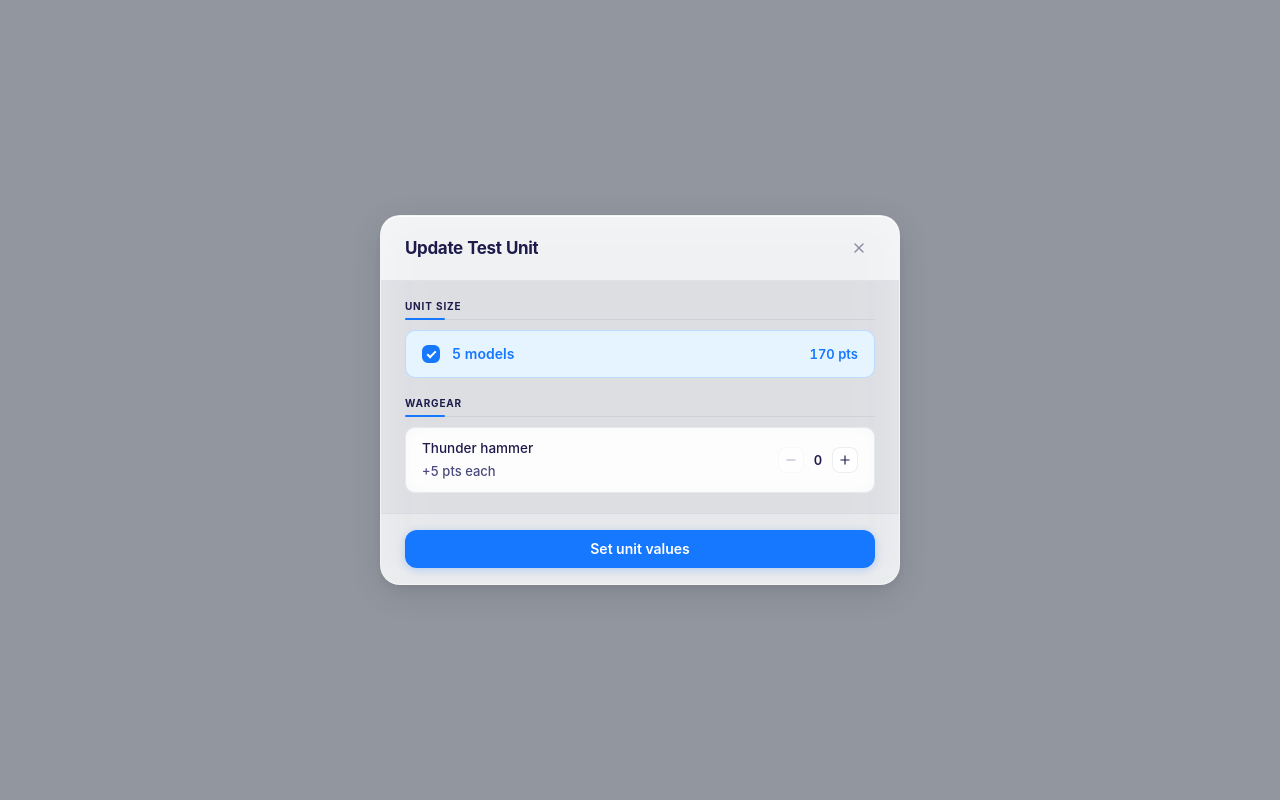
Test: UnitConfigModal 11e wargear › caps the quantity at the model count of the chosen size tier
What coordinates should you click on to do the following:
click the button named "Add one Thunder hammer"
I would click on:
 (845, 460)
Its box is [832,447,858,473].
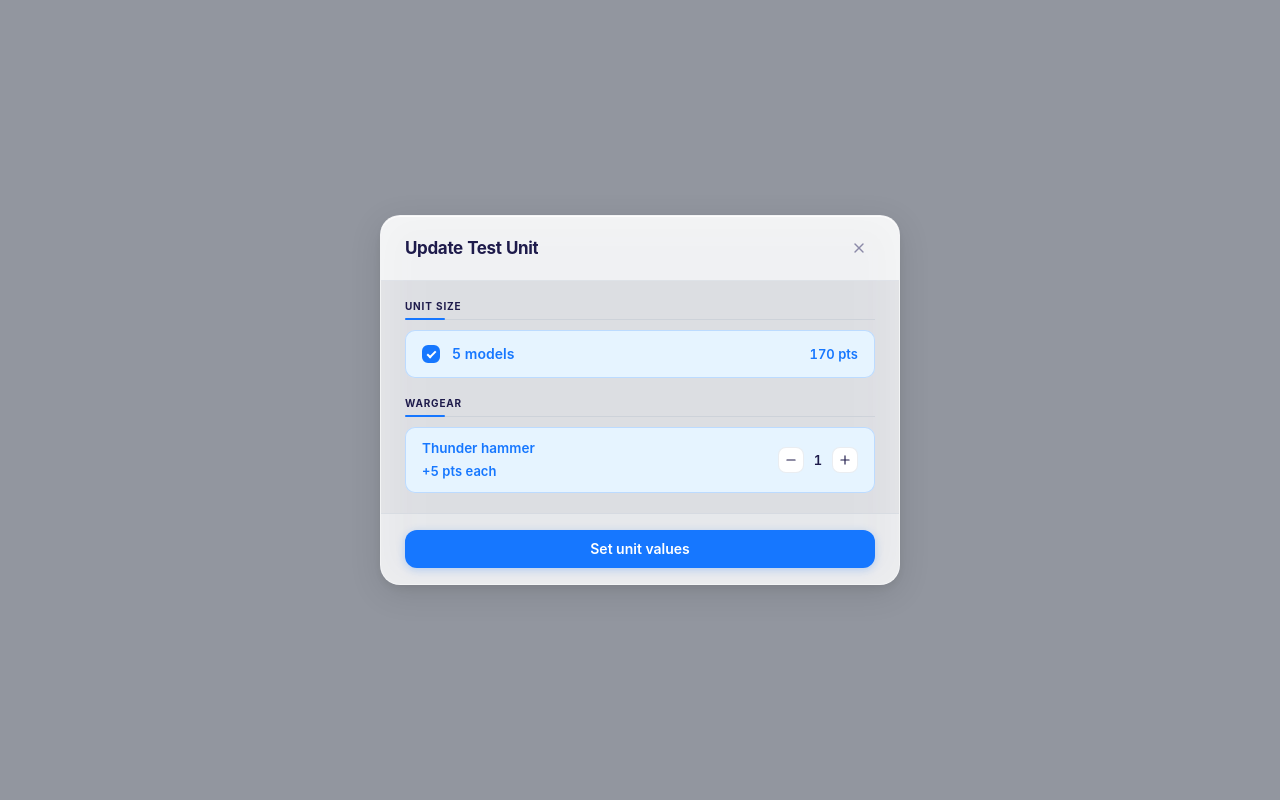
What coordinates should you click on to do the following:
click the button named "Add one Thunder hammer"
I would click on:
 (845, 460)
Its box is [832,447,858,473].
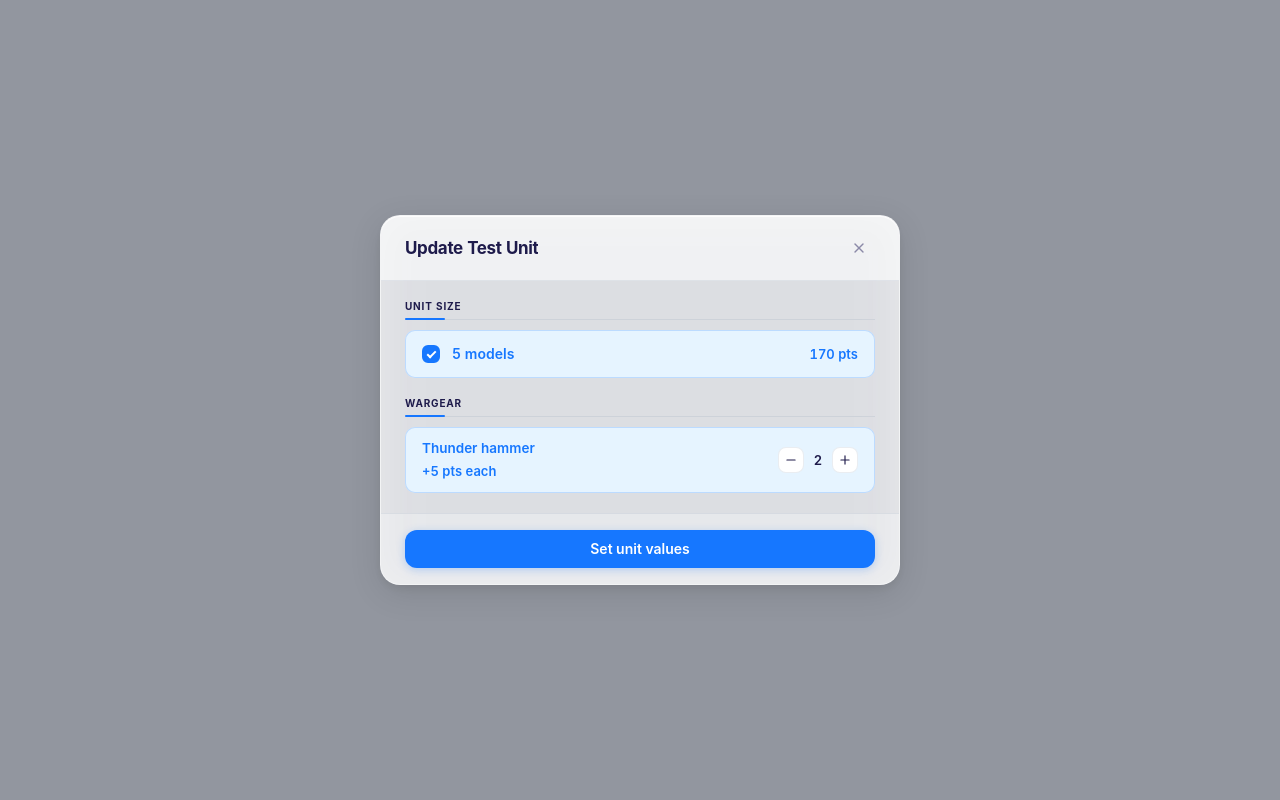
What coordinates should you click on to do the following:
click the button named "Add one Thunder hammer"
I would click on:
 (845, 460)
Its box is [832,447,858,473].
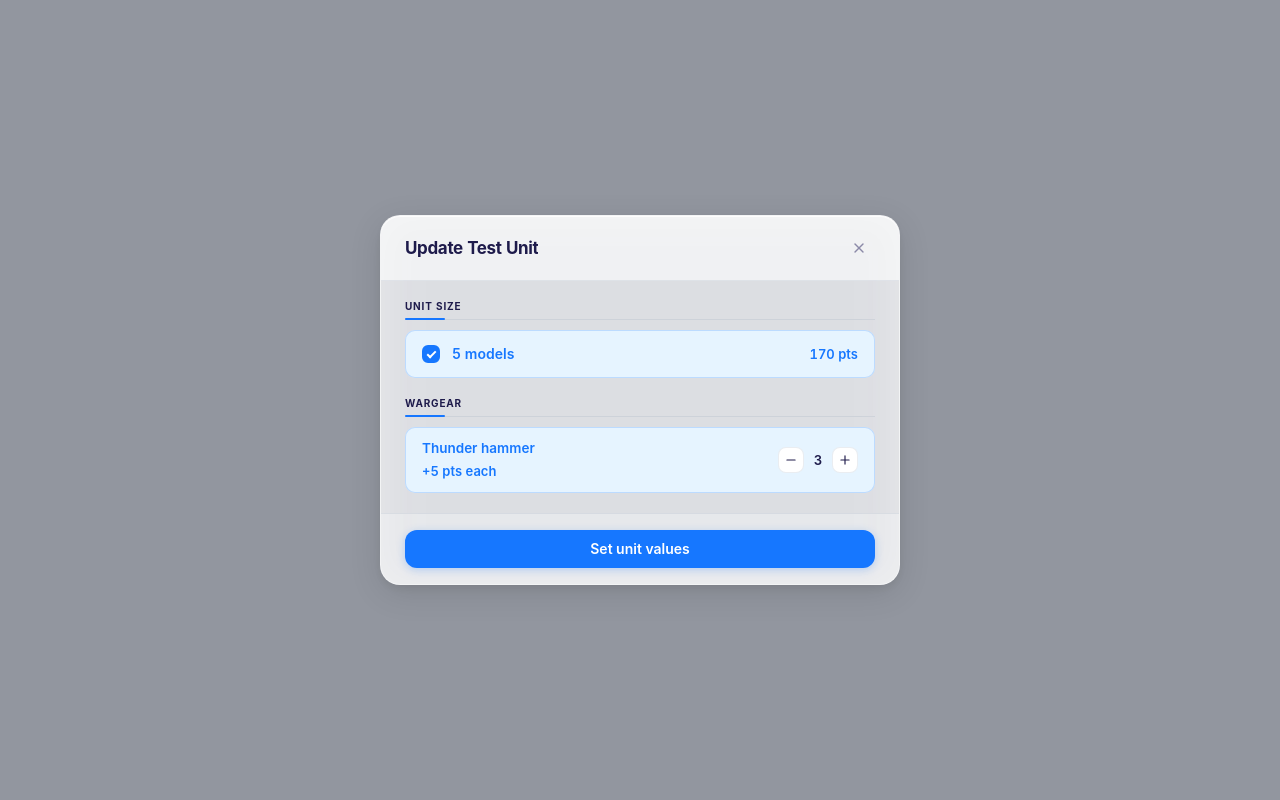
What coordinates should you click on to do the following:
click the button named "Add one Thunder hammer"
I would click on:
 (845, 460)
Its box is [832,447,858,473].
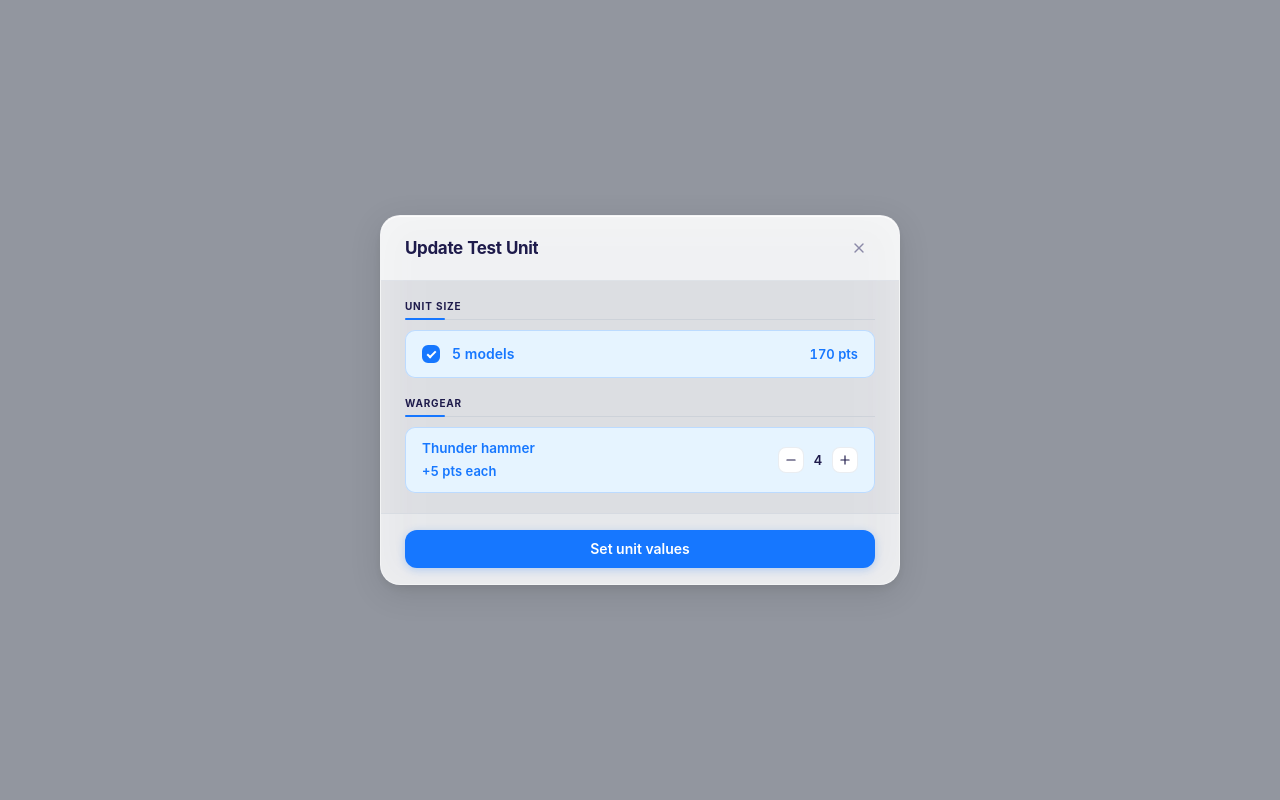
What coordinates should you click on to do the following:
click the button named "Add one Thunder hammer"
I would click on:
 (845, 460)
Its box is [832,447,858,473].
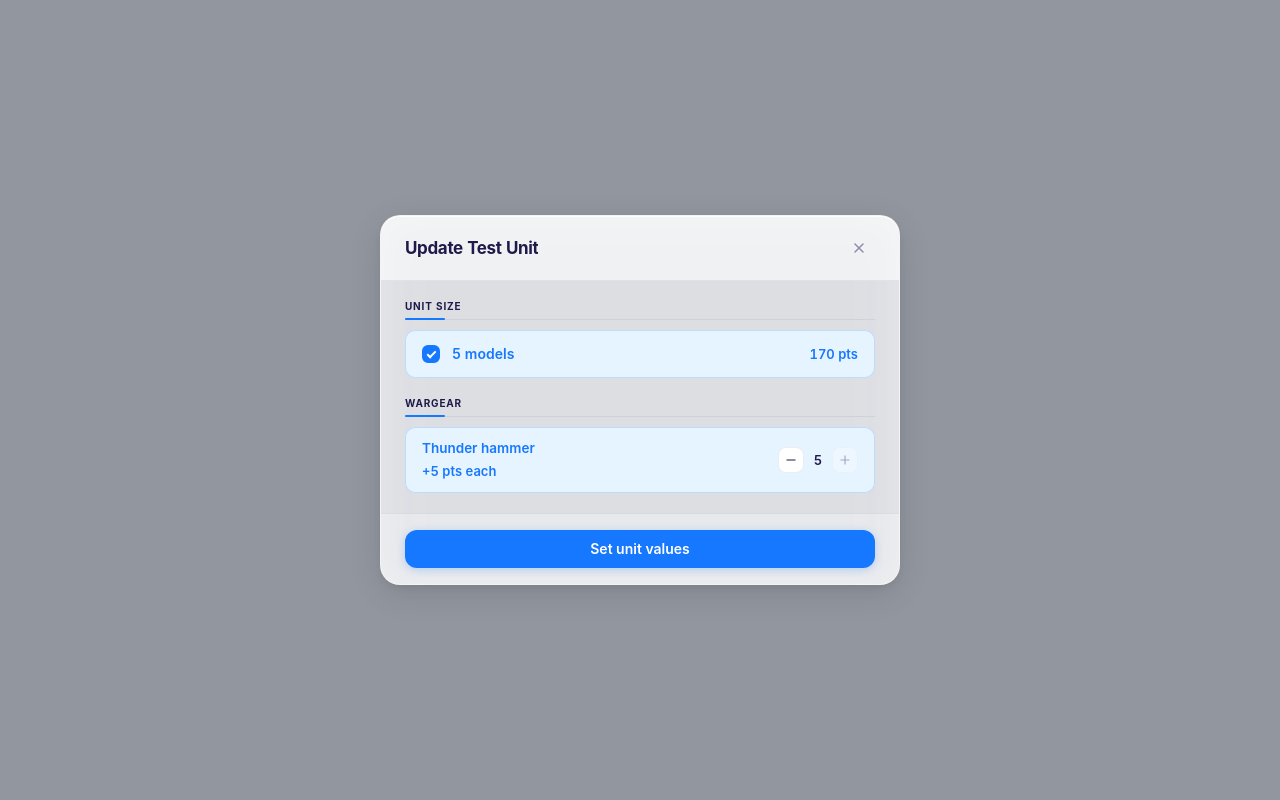
Now the text "5" is shown, box [814,452,822,468]
Now the button named "Add one Thunder hammer" is disabled, box [832,447,858,473]
